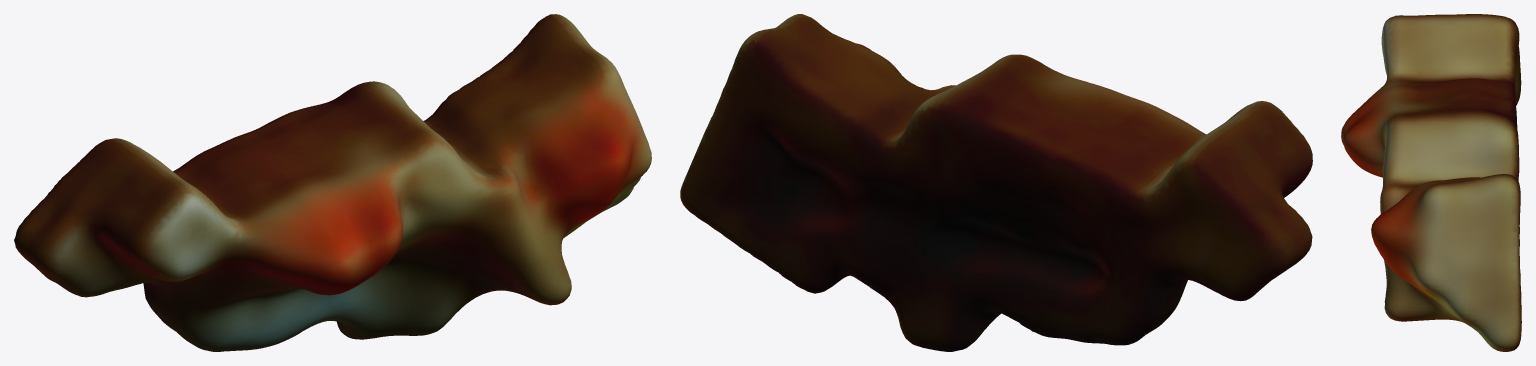
File: blocks.glb
3 views of the same model, side by side, from view 1: azimuth 30°, elevation 25°; view 2: azimuth 150°, elevation 25°; view 3: azimuth 270°, elevation 25° (orthographic). The views are drawn at different scales.
Size of the model in its own units: 0.9991 by 0.428 by 0.3266.
